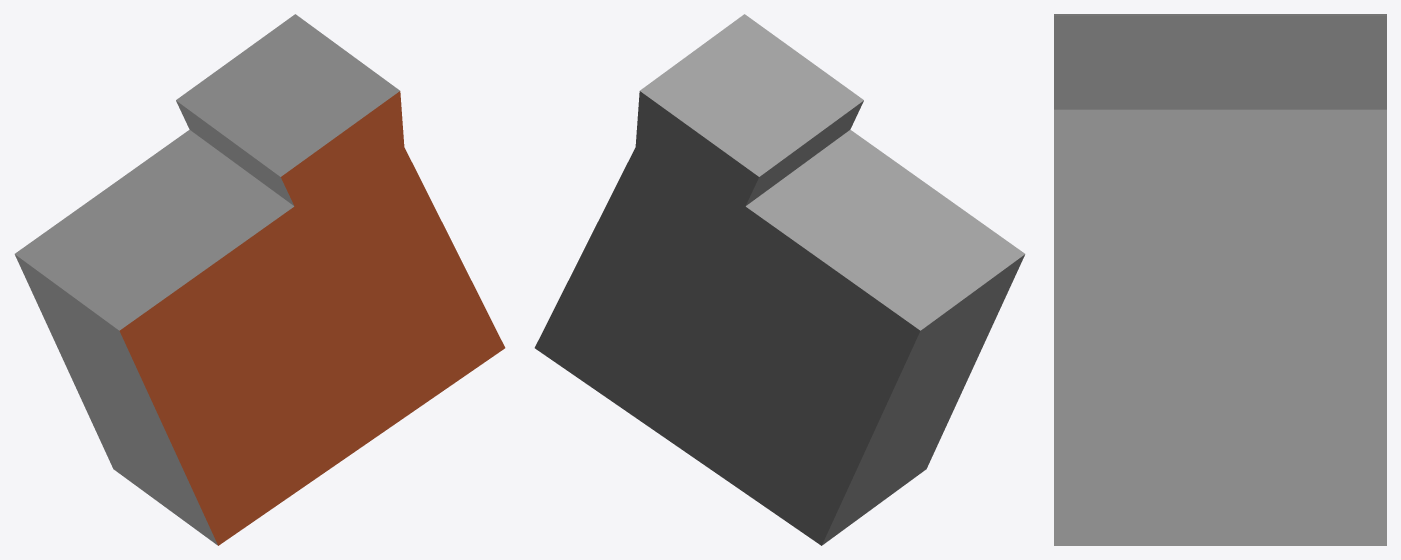
The model's file is construction_3700_assumed_A_Casa_h6m.obj.
The picture shows the model from 3 angles, left to right: view 1: azimuth 30°, elevation 25°; view 2: azimuth 150°, elevation 25°; view 3: azimuth 270°, elevation 25°; orthographic projection. The views are drawn at different scales.
Parts seen in each view (by area): view 1: construction_3700_assumed_A_Casa; view 2: construction_3700_assumed_A_Casa; view 3: construction_3700_assumed_A_Casa.
Boxes of the visible parts, x1,y1,x2,y2 form: construction_3700_assumed_A_Casa: [14, 14, 505, 545]; construction_3700_assumed_A_Casa: [534, 14, 1025, 545]; construction_3700_assumed_A_Casa: [1054, 14, 1386, 545].
Bounding box in the file's own units: 12.74 × 12.96 × 6.
